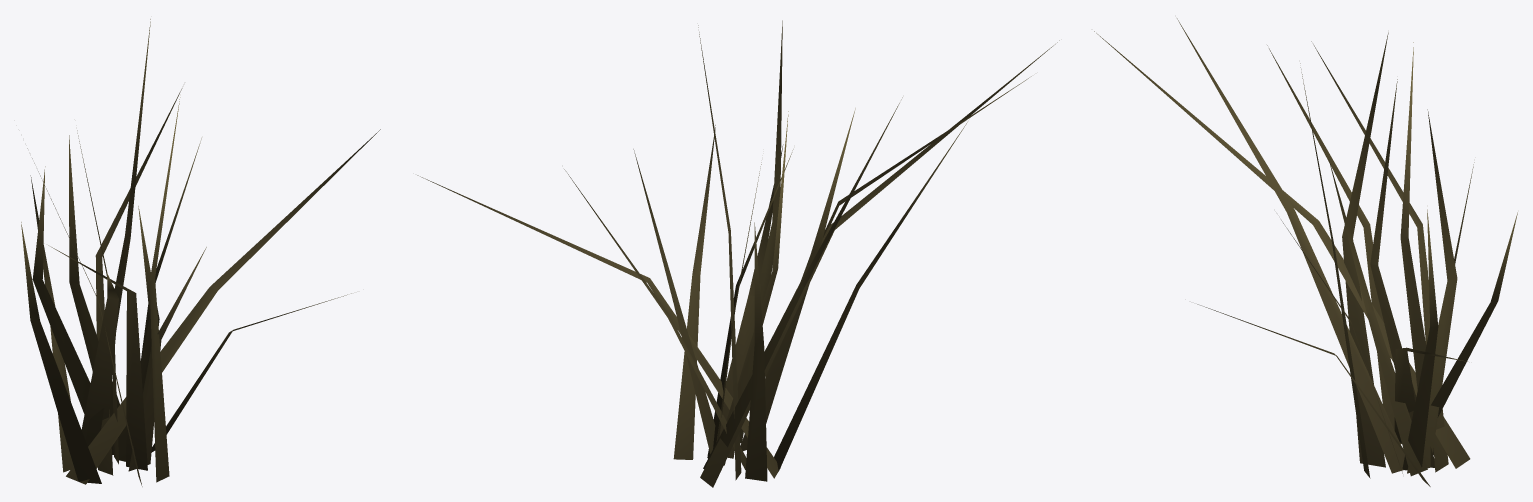
File: grass_clump_dry_lod.glb
3 renders of one model, left to right at view 1: azimuth 30°, elevation 25°; view 2: azimuth 150°, elevation 25°; view 3: azimuth 270°, elevation 25°, orthographic. The views are drawn at different scales.
Parts seen in each view (by area): view 1: grass_clump_dry_lod; view 2: grass_clump_dry_lod; view 3: grass_clump_dry_lod.
Part boxes in pixels (<box>): grass_clump_dry_lod: <box>21,19,380,486</box>; grass_clump_dry_lod: <box>417,20,1059,487</box>; grass_clump_dry_lod: <box>1094,18,1517,486</box>.
Bounding box in the file's own units: 1.08 × 0.9377 × 0.8283.
